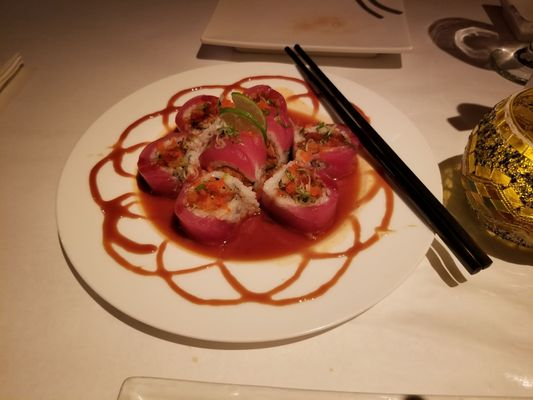burger: (0, 53, 24, 98)
sandwich: (284, 43, 495, 285)
